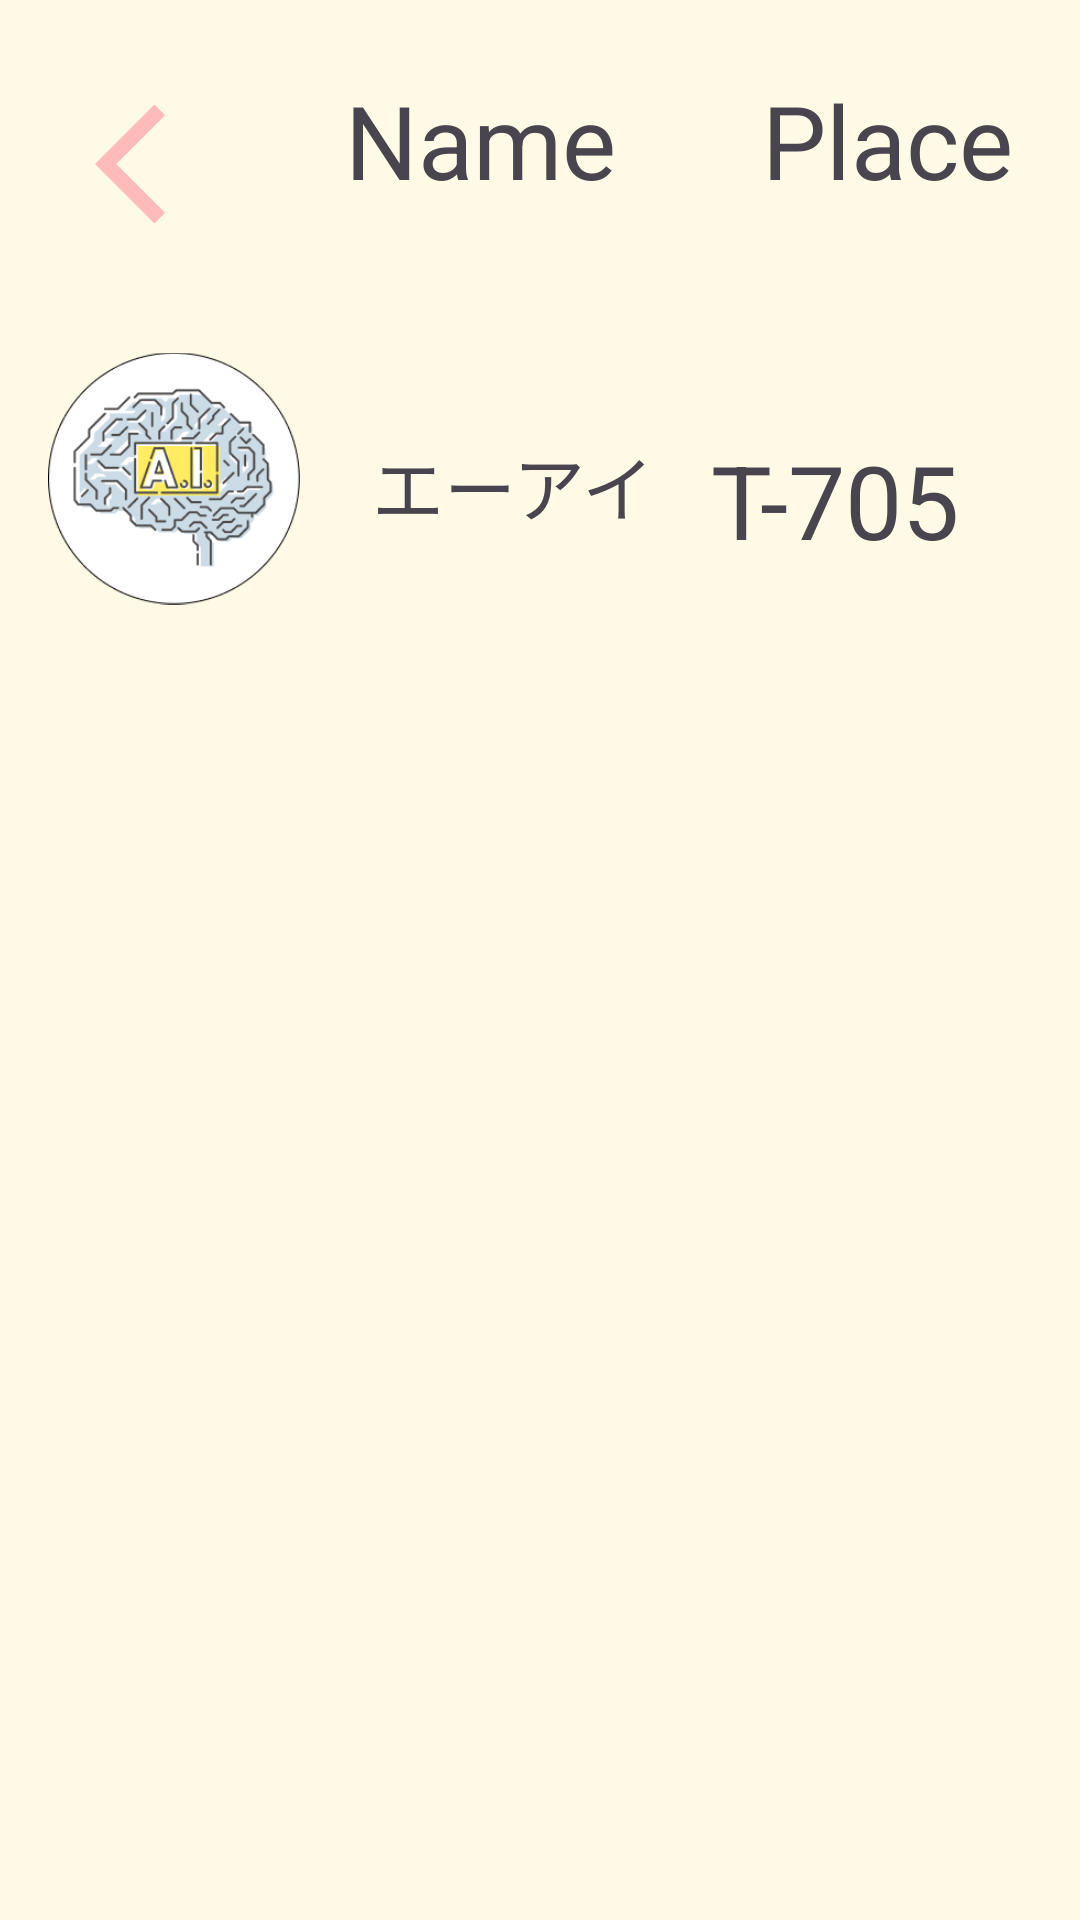

Screen size 1080*1920. Icon name, then its center in pixels as (x=x, y=y):
このボタンは戻るボタンの仮置きです: (x=130, y=164)
